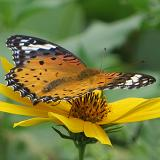Argyreus hyperbius: (2, 30, 157, 104)
butterfly: (4, 32, 159, 106)
